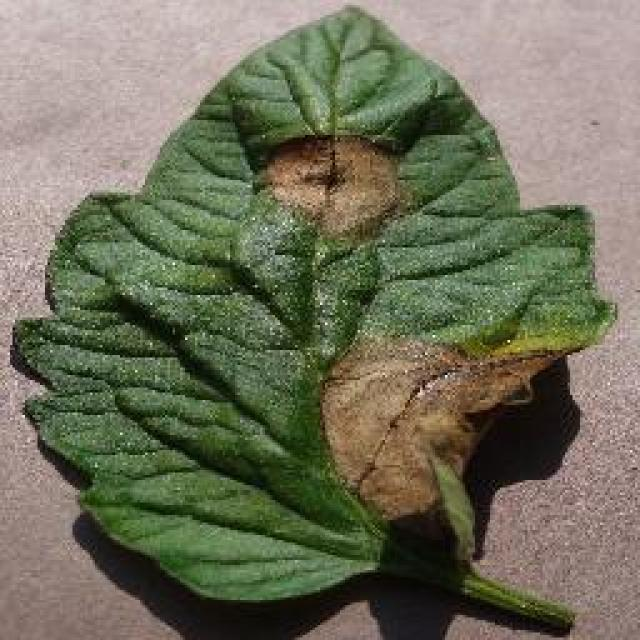Tomato___Late_blight: (8, 8, 618, 638)
